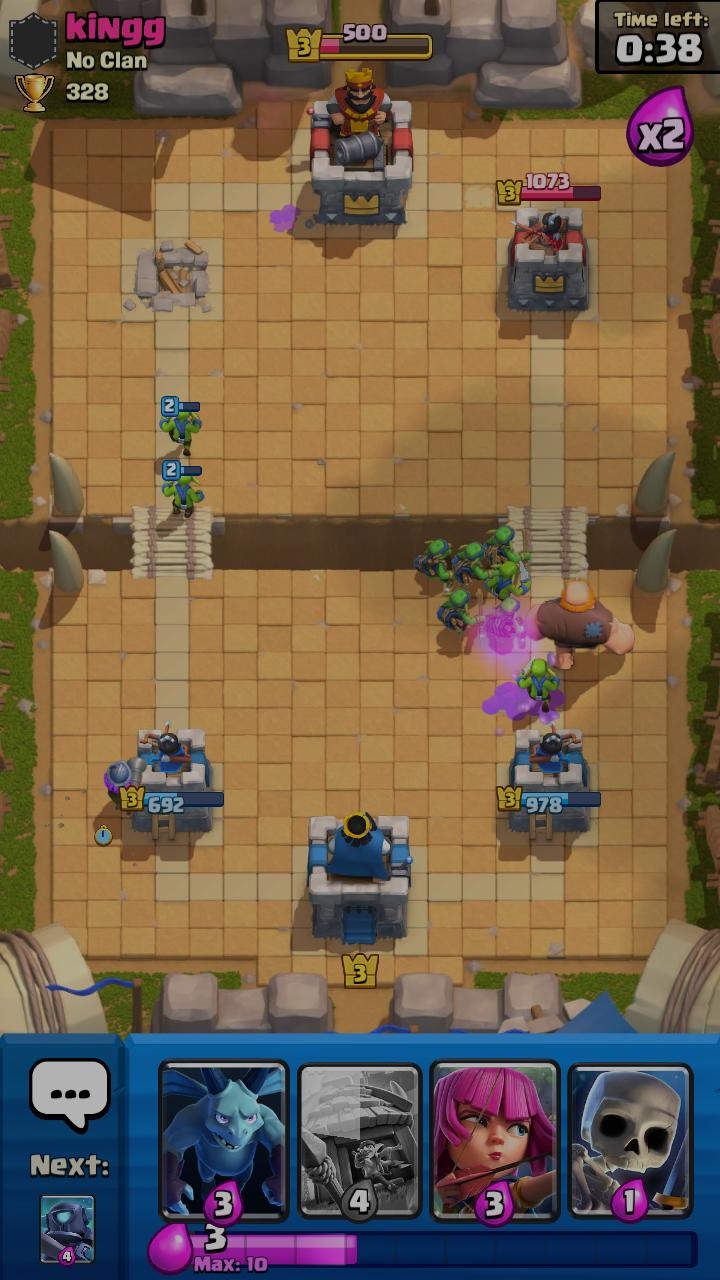ally: (523, 578, 635, 669), (159, 396, 203, 456), (162, 460, 205, 518), (104, 757, 147, 815), (436, 589, 486, 638), (517, 656, 560, 712), (485, 559, 531, 609), (414, 539, 455, 592), (452, 542, 499, 587), (484, 526, 531, 569), (486, 597, 525, 640)
